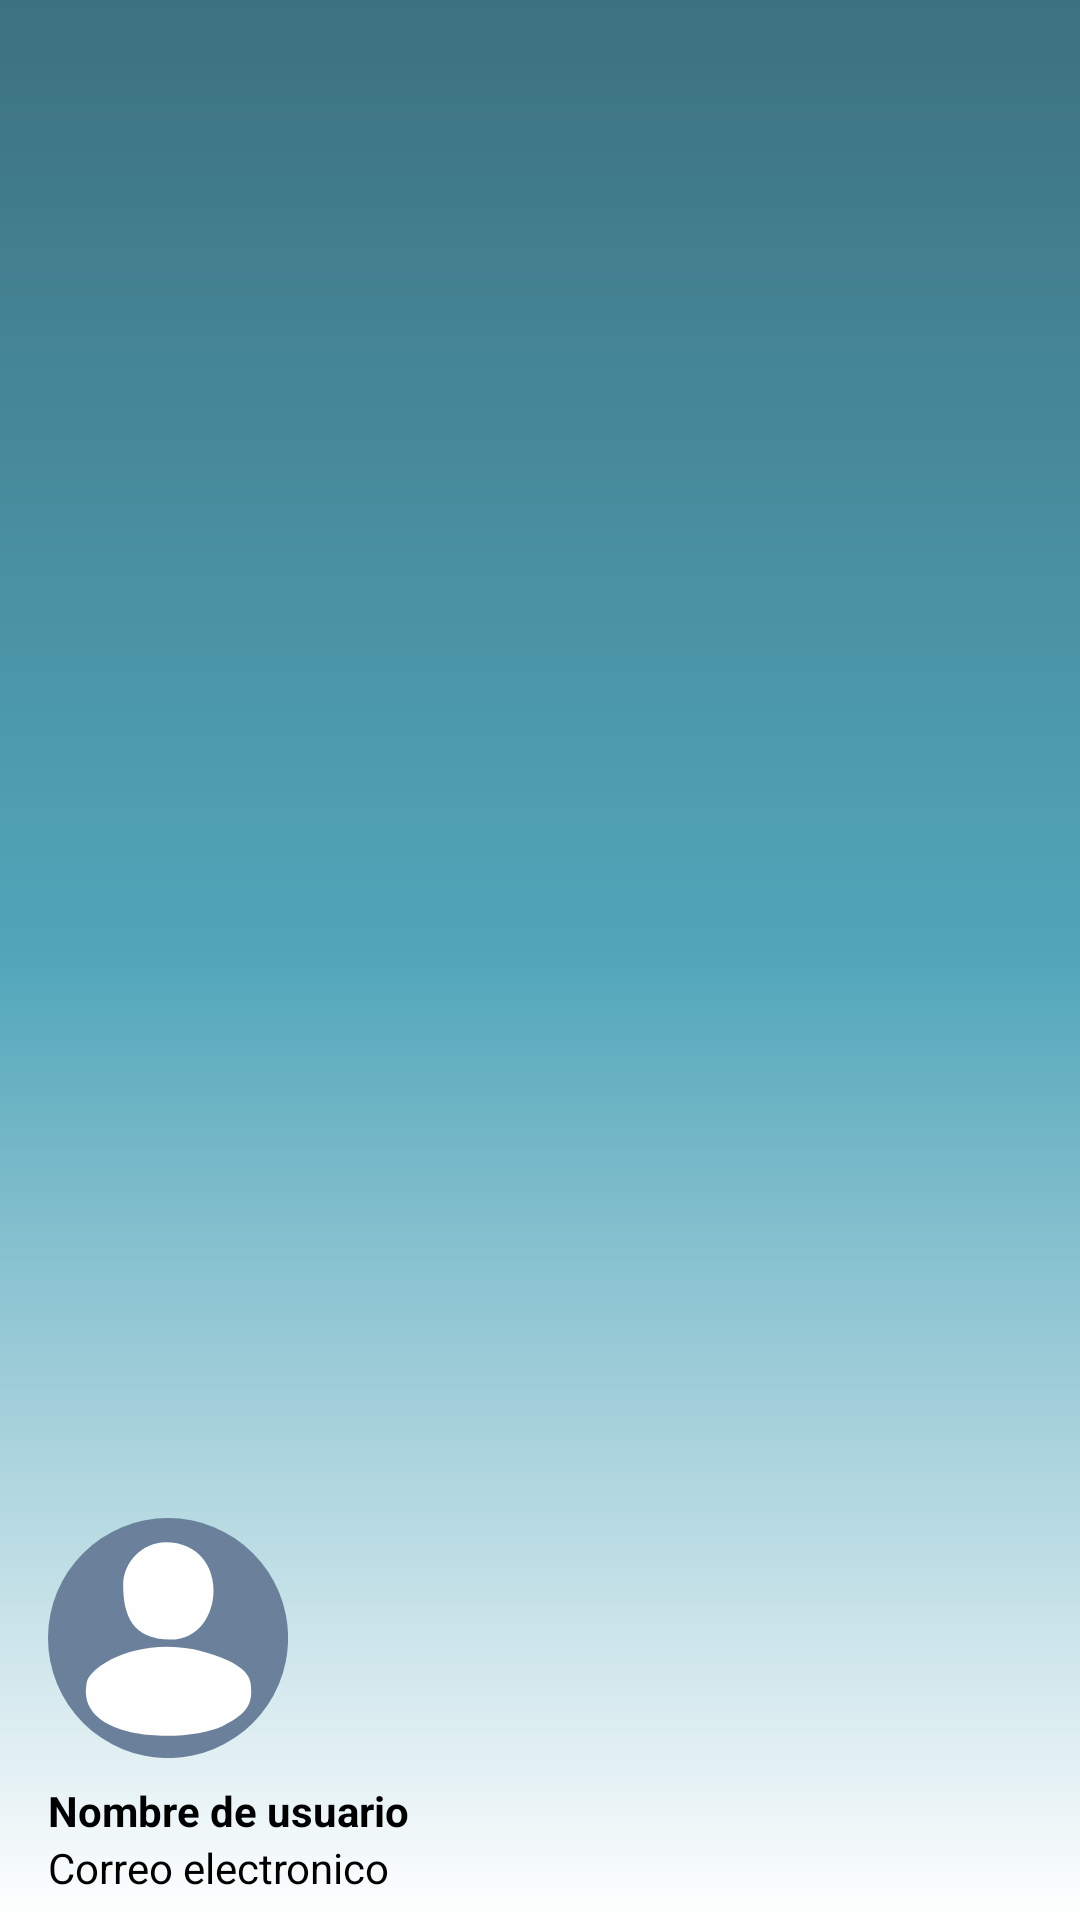

Screen size 1080px x 1920px. Icon name, then its center in pixels as point (x, y):
perfil: point (168, 1626)
